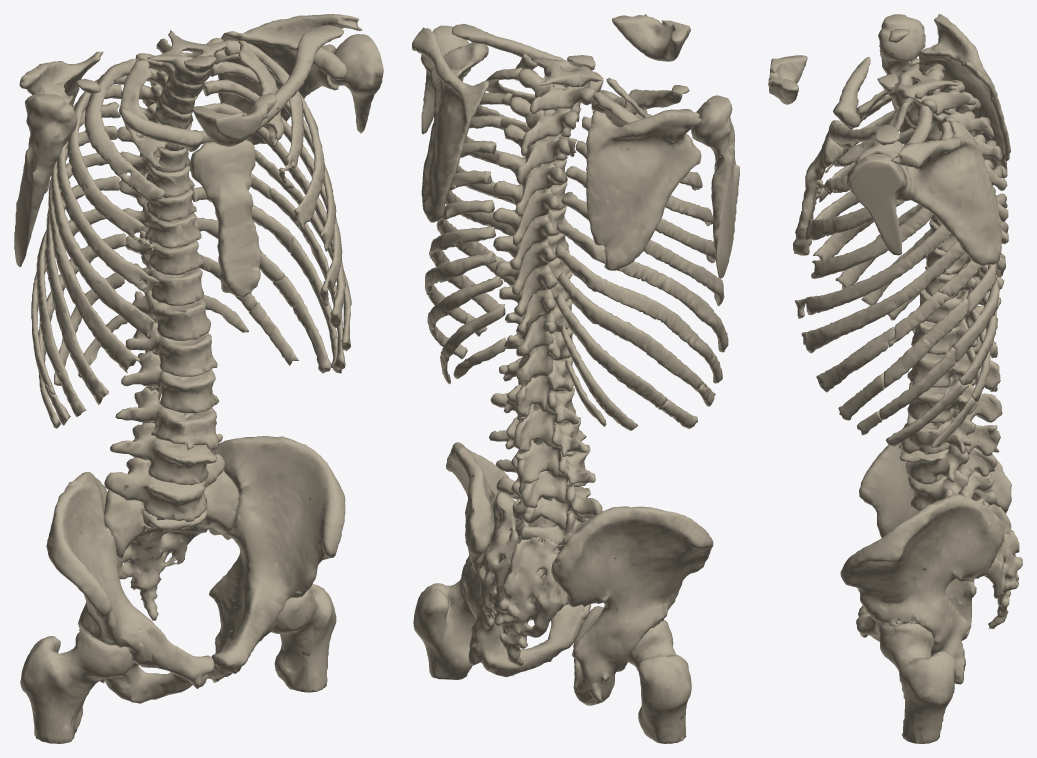
The model's file is tsd_s0327_older_adult_male.skeletal.LOD2.glb.
3 renders of one model, left to right at view 1: azimuth 30°, elevation 25°; view 2: azimuth 150°, elevation 25°; view 3: azimuth 270°, elevation 25°, orthographic. The views are drawn at different scales.
Visible parts, largest first — view 1: TSD_S0327.OLDER_ADULT.MALE.SKELETAL.HIP_BONE_OS_COXAE.L, TSD_S0327.OLDER_ADULT.MALE.SKELETAL.HIP_BONE_OS_COXAE.R, TSD_S0327.OLDER_ADULT.MALE.SKELETAL.FEMUR.R, TSD_S0327.OLDER_ADULT.MALE.SKELETAL.SACRUM, TSD_S0327.OLDER_ADULT.MALE.SKELETAL.STERNUM, TSD_S0327.OLDER_ADULT.MALE.SKELETAL.SCAPULA.L, TSD_S0327.OLDER_ADULT.MALE.SKELETAL.HUMERUS.R, TSD_S0327.OLDER_ADULT.MALE.SKELETAL.FEMUR.L, TSD_S0327.OLDER_ADULT.MALE.SKELETAL.VERTEBRA_L5, TSD_S0327.OLDER_ADULT.MALE.SKELETAL.VERTEBRA_L4, TSD_S0327.OLDER_ADULT.MALE.SKELETAL.VERTEBRA_L3, TSD_S0327.OLDER_ADULT.MALE.SKELETAL.RIB_5.R (+41 smaller); view 2: TSD_S0327.OLDER_ADULT.MALE.SKELETAL.HIP_BONE_OS_COXAE.R, TSD_S0327.OLDER_ADULT.MALE.SKELETAL.SCAPULA.R, TSD_S0327.OLDER_ADULT.MALE.SKELETAL.SACRUM, TSD_S0327.OLDER_ADULT.MALE.SKELETAL.HIP_BONE_OS_COXAE.L, TSD_S0327.OLDER_ADULT.MALE.SKELETAL.SCAPULA.L, TSD_S0327.OLDER_ADULT.MALE.SKELETAL.FEMUR.R, TSD_S0327.OLDER_ADULT.MALE.SKELETAL.FEMUR.L, TSD_S0327.OLDER_ADULT.MALE.SKELETAL.HUMERUS.R, TSD_S0327.OLDER_ADULT.MALE.SKELETAL.RIB_8.R, TSD_S0327.OLDER_ADULT.MALE.SKELETAL.VERTEBRA_L3, TSD_S0327.OLDER_ADULT.MALE.SKELETAL.RIB_7.R, TSD_S0327.OLDER_ADULT.MALE.SKELETAL.RIB_9.R (+39 smaller); view 3: TSD_S0327.OLDER_ADULT.MALE.SKELETAL.HIP_BONE_OS_COXAE.L, TSD_S0327.OLDER_ADULT.MALE.SKELETAL.SCAPULA.L, TSD_S0327.OLDER_ADULT.MALE.SKELETAL.FEMUR.L, TSD_S0327.OLDER_ADULT.MALE.SKELETAL.HIP_BONE_OS_COXAE.R, TSD_S0327.OLDER_ADULT.MALE.SKELETAL.SCAPULA.R, TSD_S0327.OLDER_ADULT.MALE.SKELETAL.HUMERUS.L, TSD_S0327.OLDER_ADULT.MALE.SKELETAL.RIB_9.L, TSD_S0327.OLDER_ADULT.MALE.SKELETAL.RIB_6.L, TSD_S0327.OLDER_ADULT.MALE.SKELETAL.RIB_5.L, TSD_S0327.OLDER_ADULT.MALE.SKELETAL.VERTEBRA_L3, TSD_S0327.OLDER_ADULT.MALE.SKELETAL.VERTEBRA_L4, TSD_S0327.OLDER_ADULT.MALE.SKELETAL.RIB_8.L (+30 smaller).
Boxes of the visible parts, box(x1,y1,x2,y2) form: TSD_S0327.OLDER_ADULT.MALE.SKELETAL.HIP_BONE_OS_COXAE.L: box(208, 436, 345, 682); TSD_S0327.OLDER_ADULT.MALE.SKELETAL.HIP_BONE_OS_COXAE.R: box(46, 472, 214, 703); TSD_S0327.OLDER_ADULT.MALE.SKELETAL.FEMUR.R: box(20, 631, 133, 743); TSD_S0327.OLDER_ADULT.MALE.SKELETAL.SACRUM: box(104, 470, 239, 620); TSD_S0327.OLDER_ADULT.MALE.SKELETAL.STERNUM: box(190, 140, 261, 297); TSD_S0327.OLDER_ADULT.MALE.SKELETAL.SCAPULA.L: box(218, 14, 362, 144); TSD_S0327.OLDER_ADULT.MALE.SKELETAL.HUMERUS.R: box(14, 94, 77, 267); TSD_S0327.OLDER_ADULT.MALE.SKELETAL.FEMUR.L: box(271, 584, 336, 692); TSD_S0327.OLDER_ADULT.MALE.SKELETAL.VERTEBRA_L5: box(104, 454, 224, 521); TSD_S0327.OLDER_ADULT.MALE.SKELETAL.VERTEBRA_L4: box(110, 422, 222, 485); TSD_S0327.OLDER_ADULT.MALE.SKELETAL.VERTEBRA_L3: box(115, 387, 218, 450); TSD_S0327.OLDER_ADULT.MALE.SKELETAL.RIB_5.R: box(50, 102, 155, 338); TSD_S0327.OLDER_ADULT.MALE.SKELETAL.HIP_BONE_OS_COXAE.R: box(551, 506, 713, 705); TSD_S0327.OLDER_ADULT.MALE.SKELETAL.SCAPULA.R: box(586, 109, 701, 270); TSD_S0327.OLDER_ADULT.MALE.SKELETAL.SACRUM: box(478, 492, 593, 666); TSD_S0327.OLDER_ADULT.MALE.SKELETAL.HIP_BONE_OS_COXAE.L: box(446, 442, 591, 677); TSD_S0327.OLDER_ADULT.MALE.SKELETAL.SCAPULA.L: box(412, 27, 488, 222); TSD_S0327.OLDER_ADULT.MALE.SKELETAL.FEMUR.R: box(628, 620, 691, 743); TSD_S0327.OLDER_ADULT.MALE.SKELETAL.FEMUR.L: box(413, 564, 476, 679); TSD_S0327.OLDER_ADULT.MALE.SKELETAL.HUMERUS.R: box(691, 95, 739, 278); TSD_S0327.OLDER_ADULT.MALE.SKELETAL.RIB_8.R: box(555, 244, 722, 383); TSD_S0327.OLDER_ADULT.MALE.SKELETAL.VERTEBRA_L3: box(489, 417, 588, 488); TSD_S0327.OLDER_ADULT.MALE.SKELETAL.RIB_7.R: box(556, 218, 728, 352); TSD_S0327.OLDER_ADULT.MALE.SKELETAL.RIB_9.R: box(557, 272, 706, 390); TSD_S0327.OLDER_ADULT.MALE.SKELETAL.HIP_BONE_OS_COXAE.L: box(840, 494, 1004, 684); TSD_S0327.OLDER_ADULT.MALE.SKELETAL.SCAPULA.L: box(855, 120, 1001, 265); TSD_S0327.OLDER_ADULT.MALE.SKELETAL.FEMUR.L: box(879, 623, 955, 743); TSD_S0327.OLDER_ADULT.MALE.SKELETAL.HIP_BONE_OS_COXAE.R: box(858, 442, 1011, 640); TSD_S0327.OLDER_ADULT.MALE.SKELETAL.SCAPULA.R: box(918, 14, 1010, 178); TSD_S0327.OLDER_ADULT.MALE.SKELETAL.HUMERUS.L: box(846, 154, 906, 255); TSD_S0327.OLDER_ADULT.MALE.SKELETAL.RIB_9.L: box(857, 264, 999, 435); TSD_S0327.OLDER_ADULT.MALE.SKELETAL.RIB_6.L: box(801, 241, 965, 353); TSD_S0327.OLDER_ADULT.MALE.SKELETAL.RIB_5.L: box(795, 223, 951, 318); TSD_S0327.OLDER_ADULT.MALE.SKELETAL.VERTEBRA_L3: box(901, 409, 1000, 456); TSD_S0327.OLDER_ADULT.MALE.SKELETAL.VERTEBRA_L4: box(899, 442, 997, 484); TSD_S0327.OLDER_ADULT.MALE.SKELETAL.RIB_8.L: box(838, 262, 997, 420).
Size of the model in its own units: 0.3354 by 0.6438 by 0.2462.
